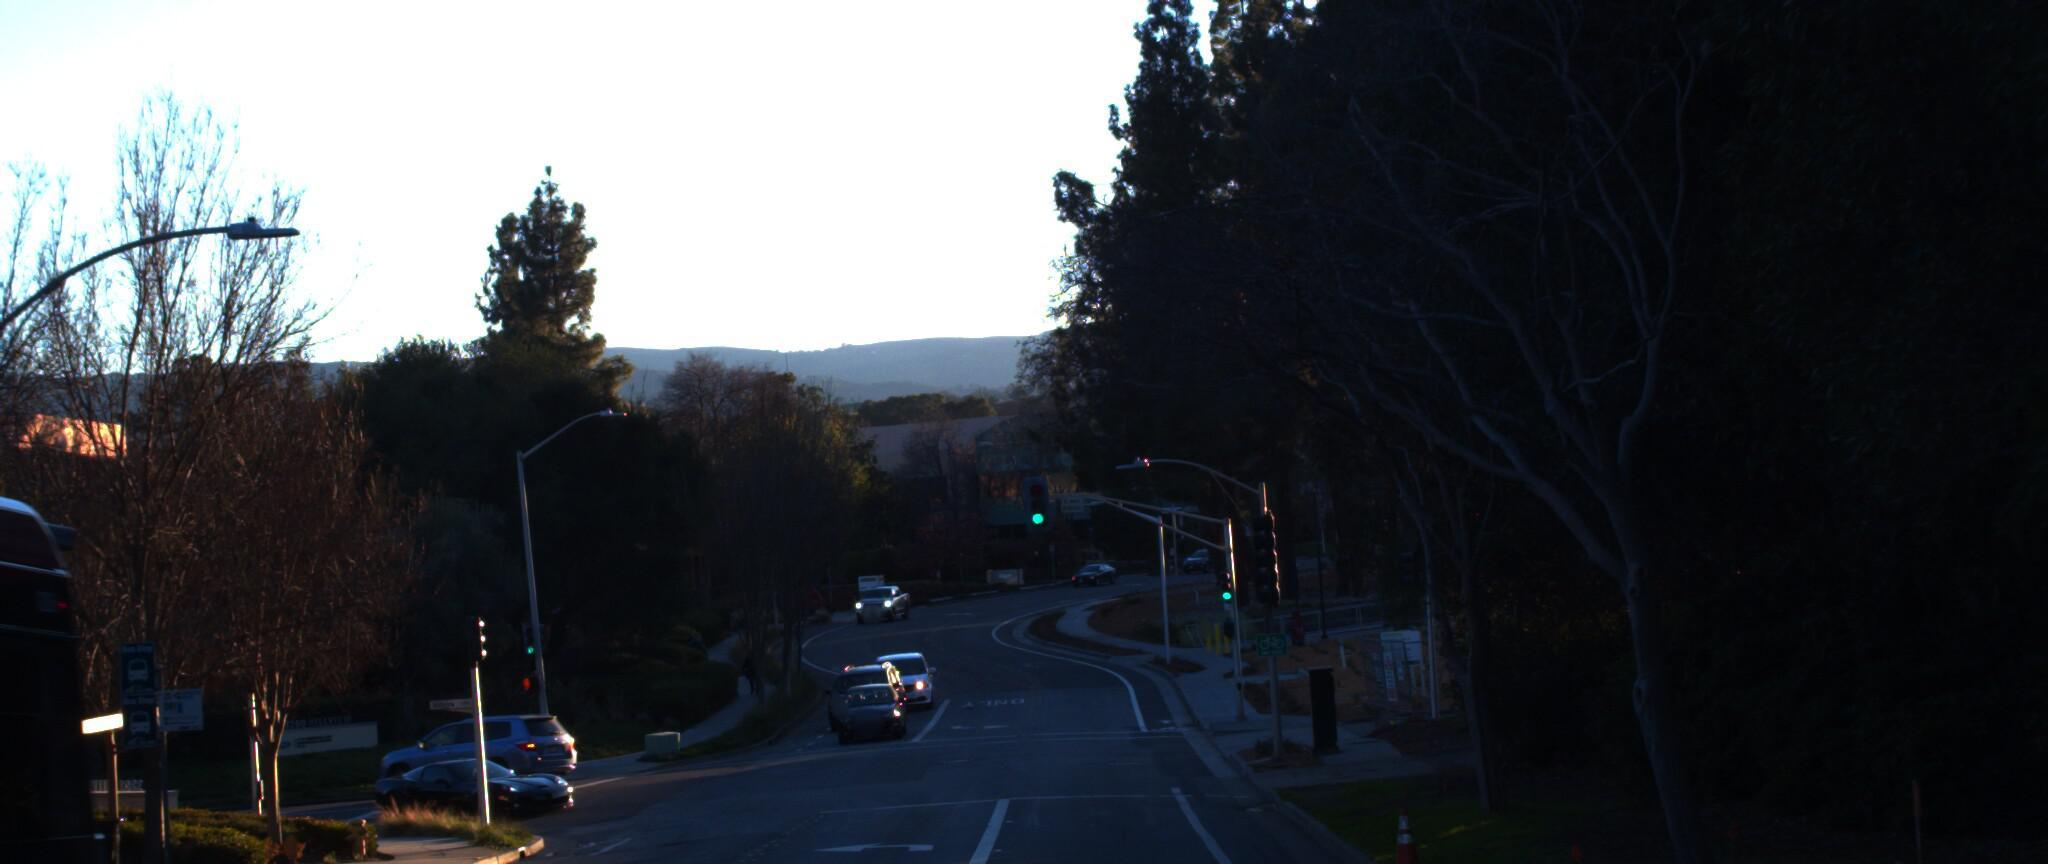bus: (0, 57, 127, 864)
car: (360, 703, 588, 800)
